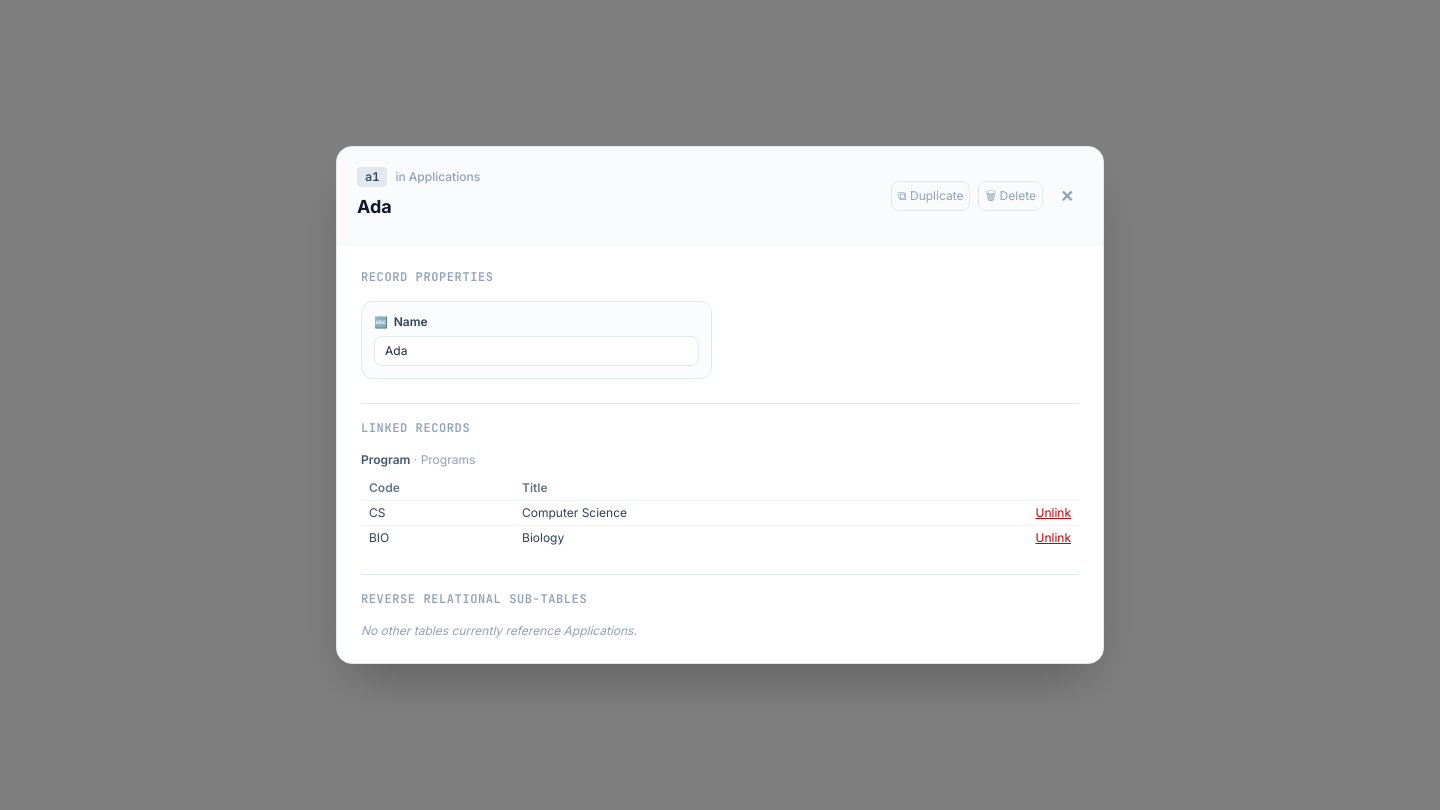
Scenario: linked records in the drawer › shows the target's fields as a mini table, and Unlink sends the update and removes the row
expect the column heading "Title" is shown: met, box [514,476,910,500]
expect the text "Computer Science" is shown: met, box [514,500,910,526]
Click the button with aria-label "Unlink CS" at x=1053, y=513, box [1036,505,1071,521]
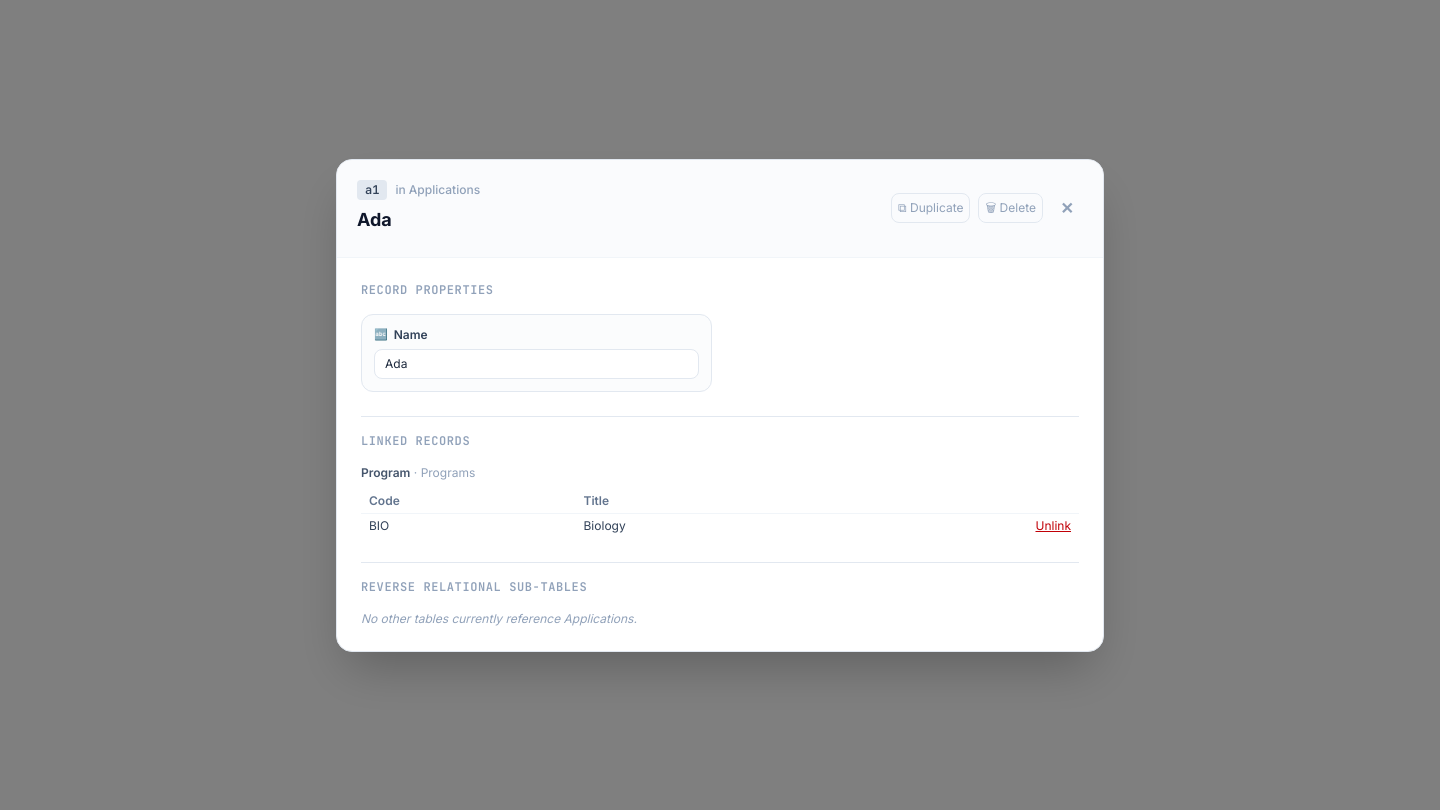
expect the text "Biology" is shown: met, box [576,513,842,538]
expect the text "Computer Science" is gone: met
